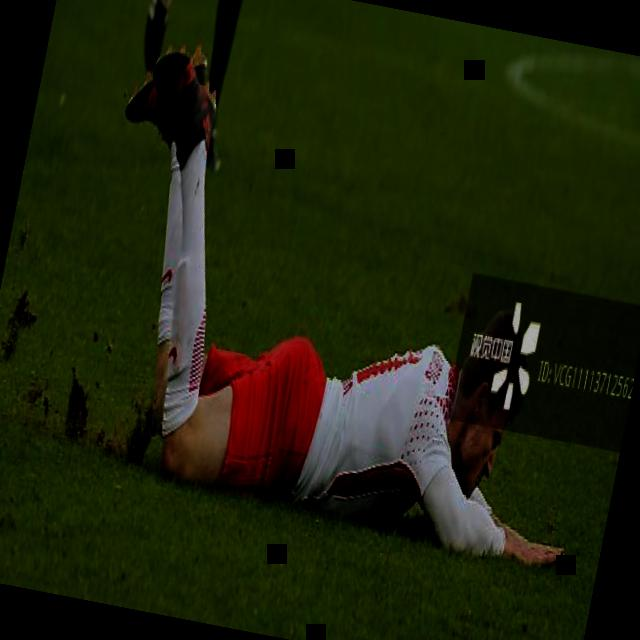Fall-Detected: (41, 6, 640, 563)
